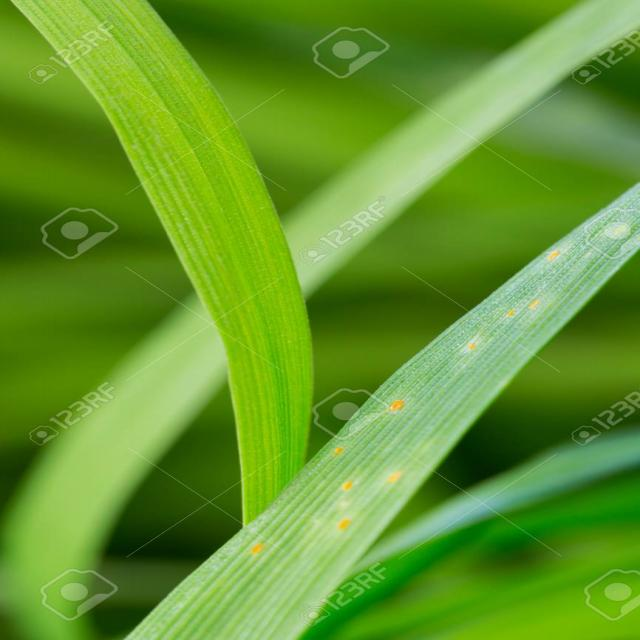leaf rust: (226, 392, 472, 568)
